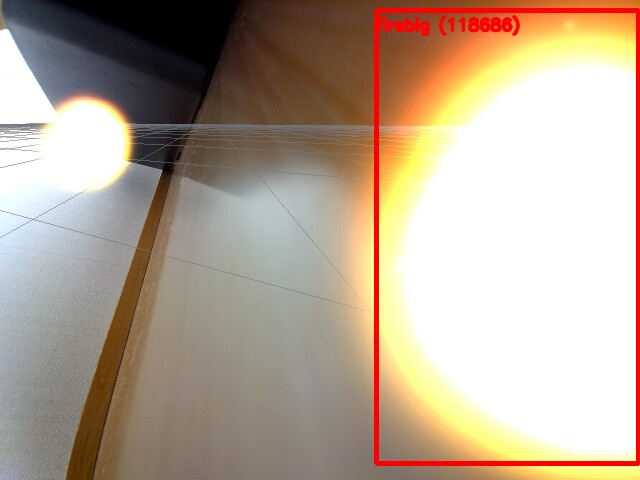firebig: (376, 10, 638, 463)
